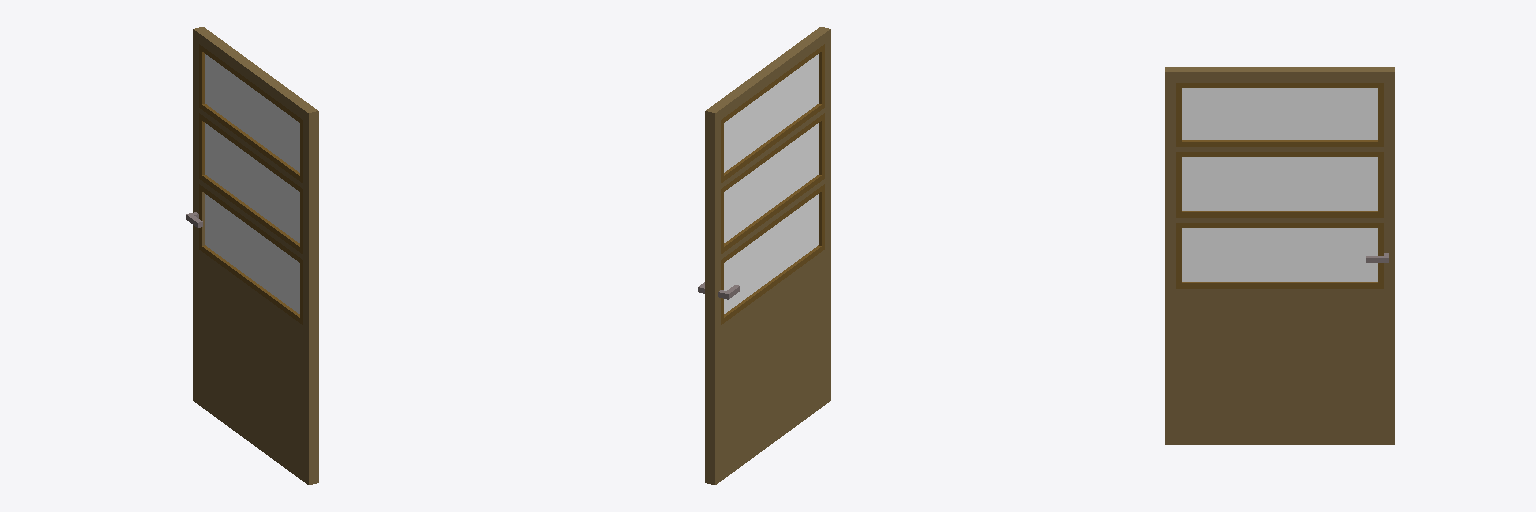
File: DoorType_[3].obj
3 views of the same model, side by side, from view 1: azimuth 30°, elevation 25°; view 2: azimuth 150°, elevation 25°; view 3: azimuth 270°, elevation 25° (orthographic).
Visible parts, largest first — view 1: DoorType_[3]; view 2: DoorType_[3]; view 3: DoorType_[3].
Boxes of the visible parts, x1,y1,x2,y2 form: DoorType_[3]: [186, 27, 318, 484]; DoorType_[3]: [698, 27, 830, 484]; DoorType_[3]: [1165, 67, 1394, 444].
Size of the model in its own units: 0.18 by 2.1 by 1.18.